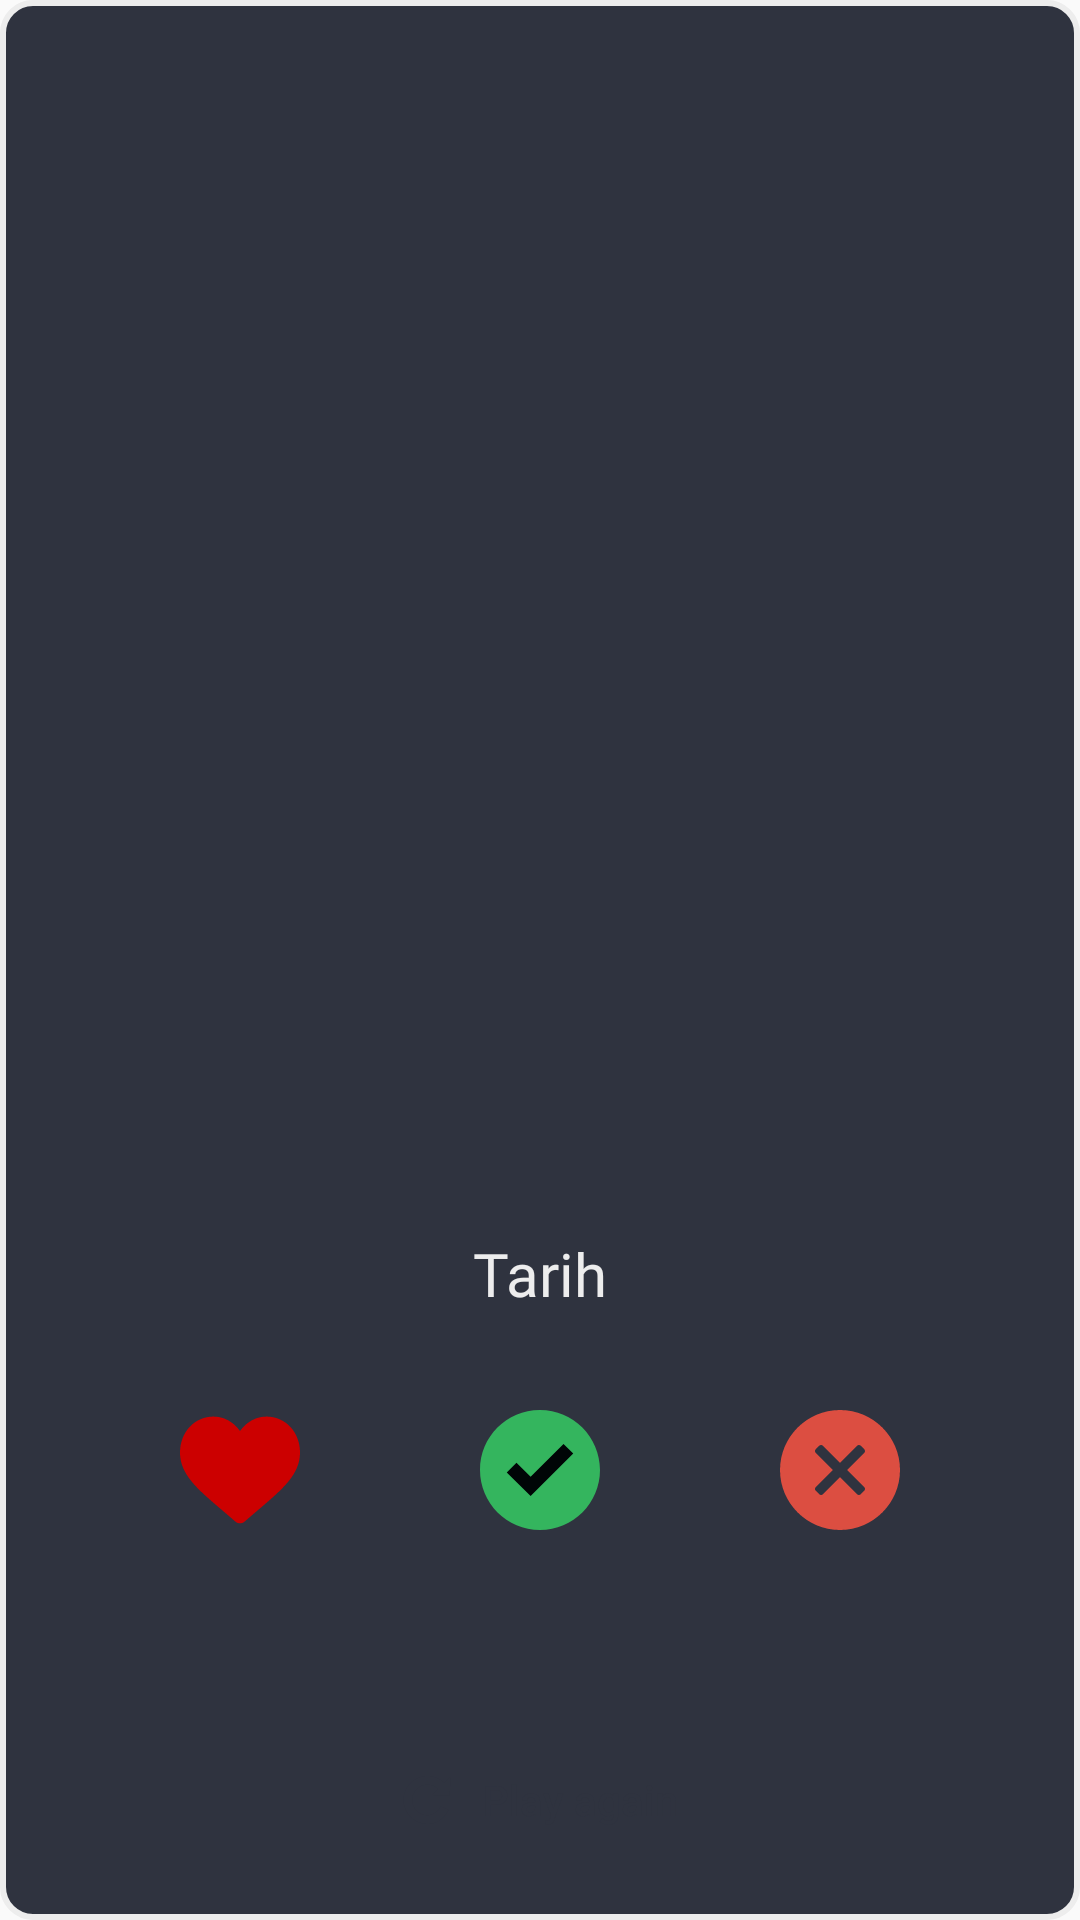

Where icons sit on this 1080px x 1920px app screen, as (x1, y1, x2, y2):
false: (780, 1410, 900, 1530)
heart: (180, 1416, 300, 1524)
true: (480, 1410, 600, 1530)
